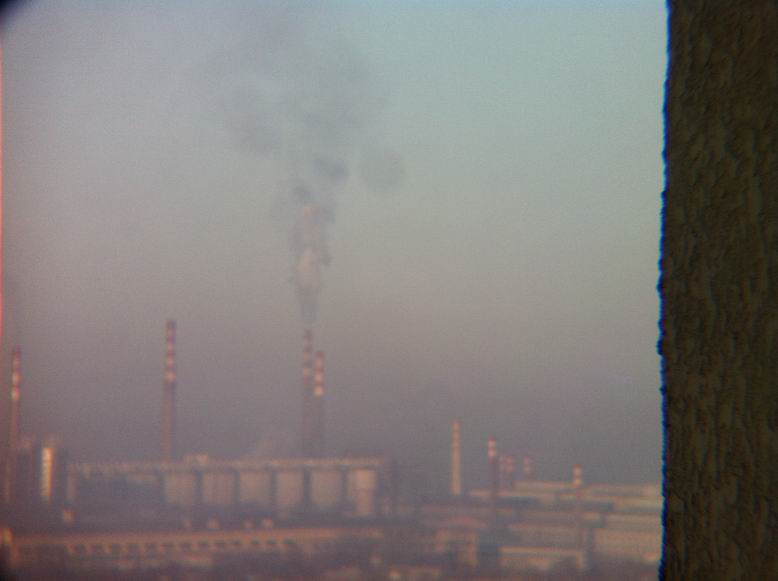dust: (264, 179, 352, 325)
